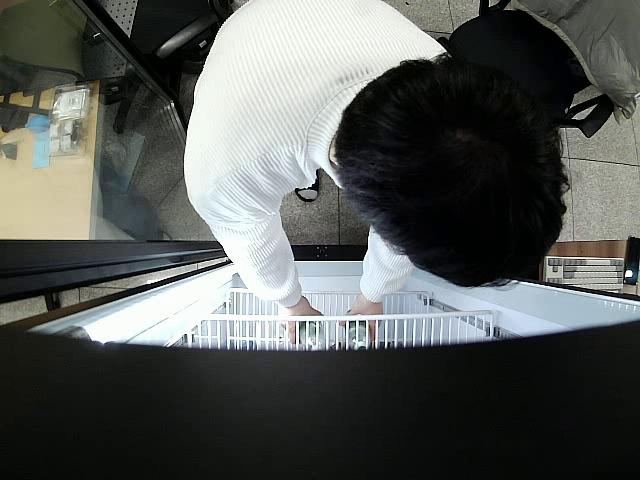00_hand: (339, 298, 384, 344), (279, 299, 323, 344)
18_trevi: (297, 315, 323, 351), (345, 318, 373, 351)
